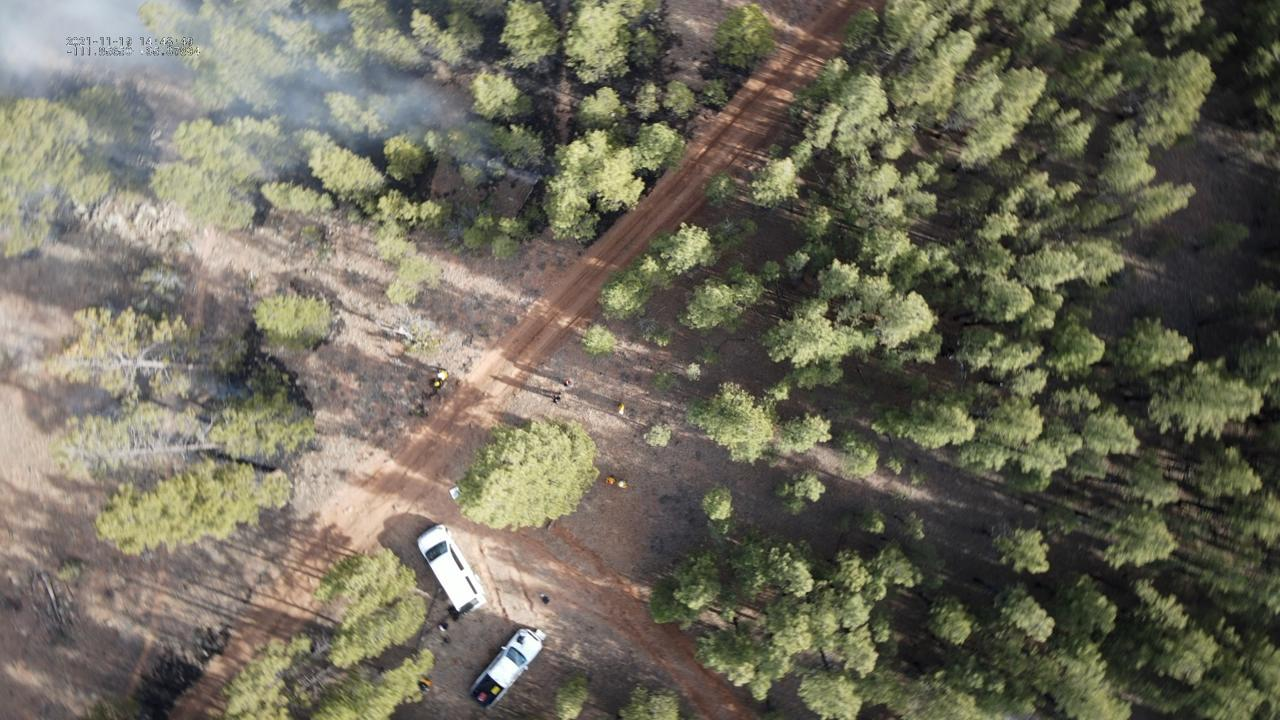smoke: (0, 0, 551, 186)
